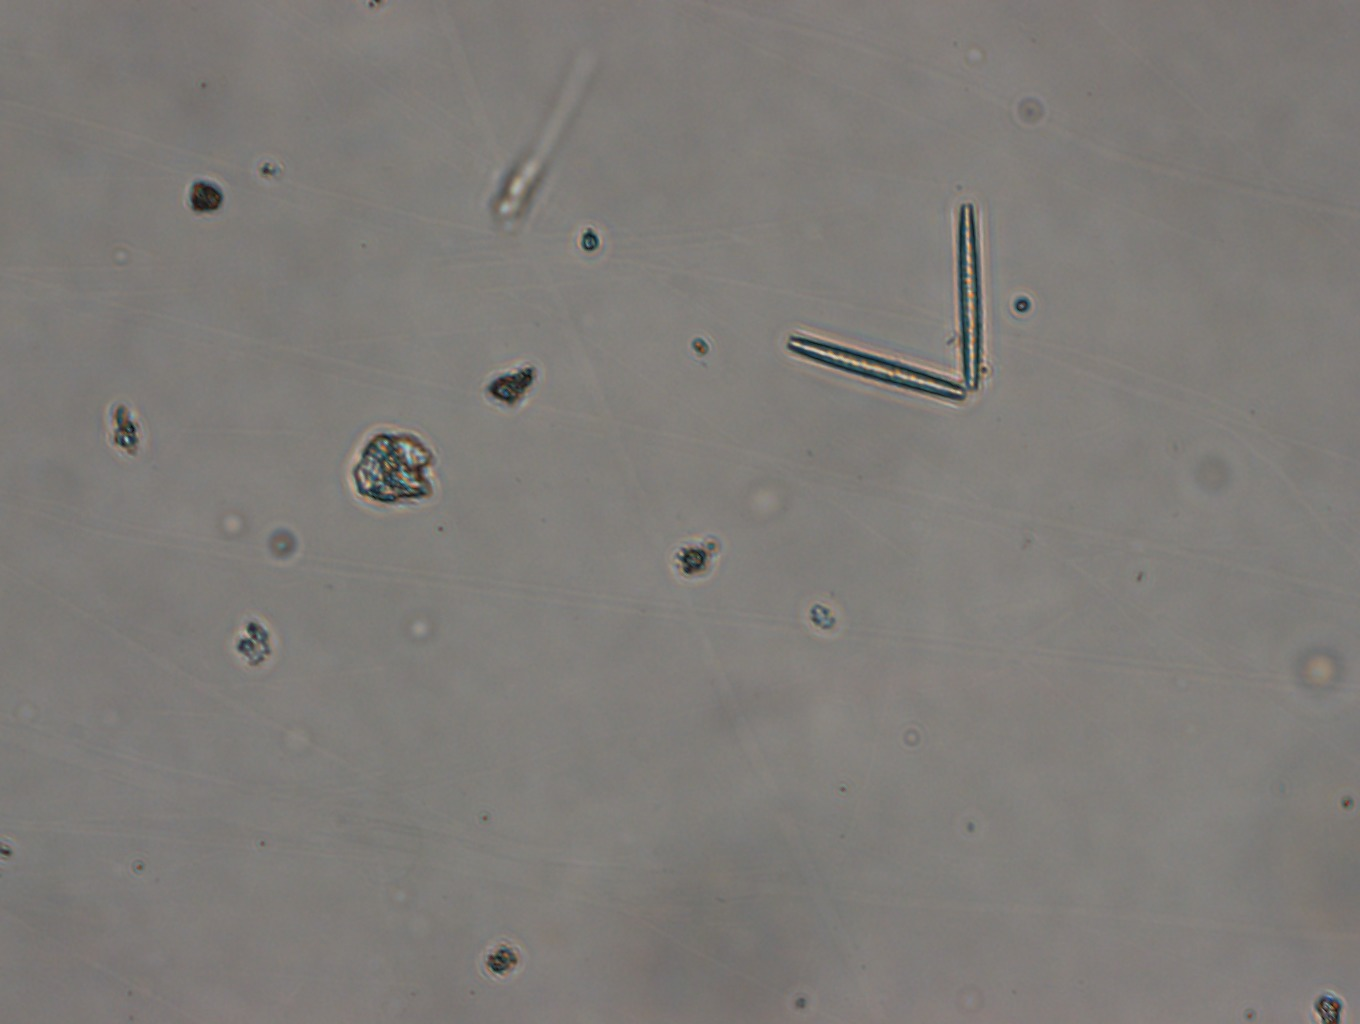thalassionema frauenfeldii: (781, 186, 999, 409)
